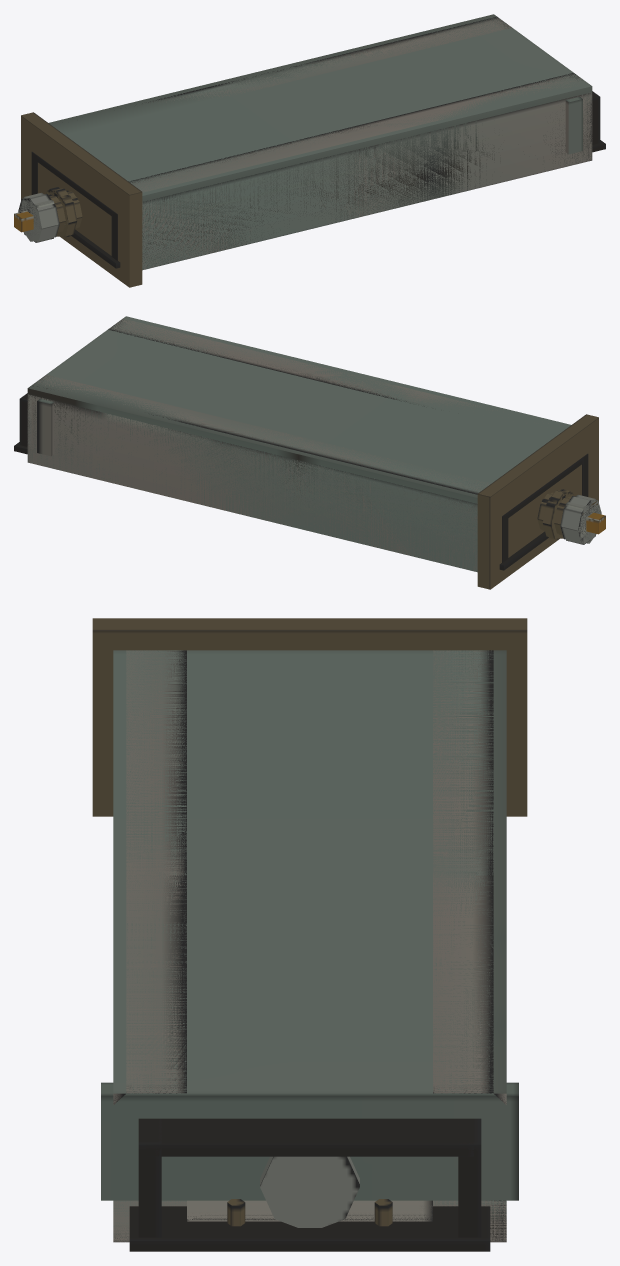
Rendered from place_works_conduit_power_end.glb.
3 renders of one model, top to bottom at view 1: azimuth 30°, elevation 25°; view 2: azimuth 150°, elevation 25°; view 3: azimuth 270°, elevation 25°, orthographic. The views are drawn at different scales.
Visible parts, largest first — view 1: LOD0_Merged_Material_Atlas, LOD2_Merged_Material_Atlas, LOD1_Merged_Material_Atlas; view 2: LOD2_Merged_Material_Atlas, LOD0_Merged_Material_Atlas, LOD1_Merged_Material_Atlas; view 3: LOD2_Merged_Material_Atlas, LOD0_Merged_Material_Atlas, LOD1_Merged_Material_Atlas.
Part boxes in pixels (left/top/right/bottom): LOD0_Merged_Material_Atlas: left=14, top=16, right=605, bottom=287; LOD2_Merged_Material_Atlas: left=20, top=14, right=592, bottom=268; LOD1_Merged_Material_Atlas: left=19, top=17, right=591, bottom=269; LOD2_Merged_Material_Atlas: left=27, top=316, right=600, bottom=571; LOD0_Merged_Material_Atlas: left=14, top=318, right=605, bottom=589; LOD1_Merged_Material_Atlas: left=27, top=320, right=601, bottom=571; LOD2_Merged_Material_Atlas: left=113, top=650, right=506, bottom=1241; LOD0_Merged_Material_Atlas: left=92, top=618, right=527, bottom=1251; LOD1_Merged_Material_Atlas: left=113, top=650, right=506, bottom=1242.
Size of the model in its own units: 1.53 by 0.25 by 0.53.
Materials: 1 (1 with a texture image).
